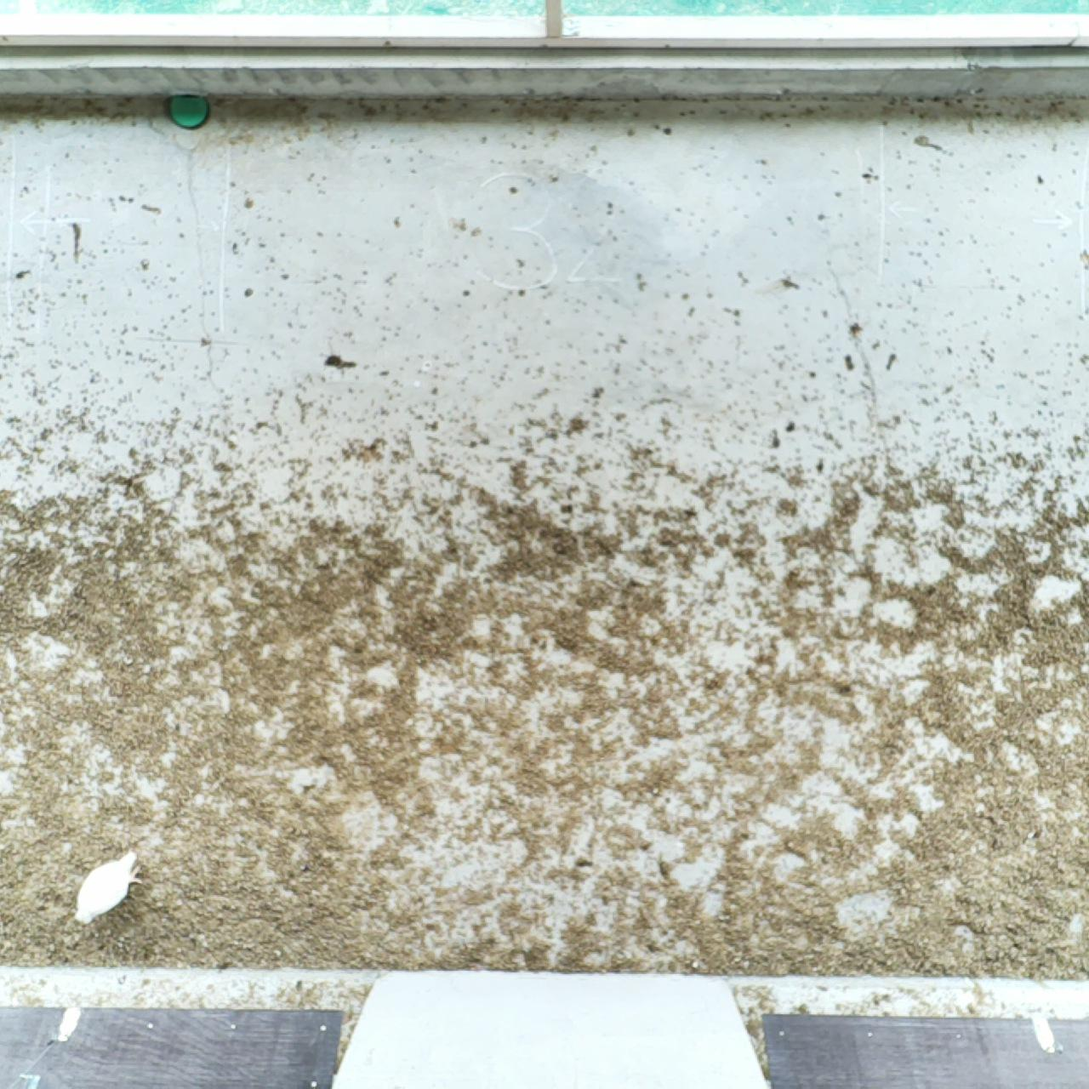chicken: (70, 839, 146, 926)
